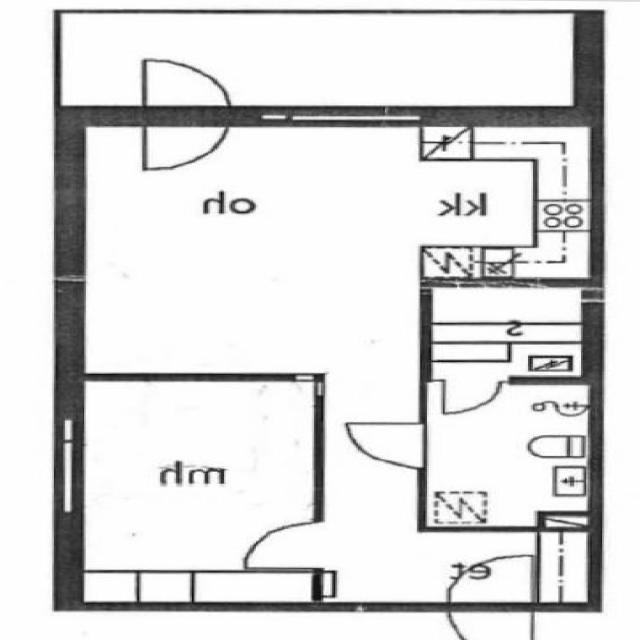door: (146, 106, 230, 178), (146, 54, 230, 126), (451, 552, 533, 612), (240, 522, 324, 568), (344, 424, 426, 469), (451, 603, 533, 640), (446, 376, 500, 415)
